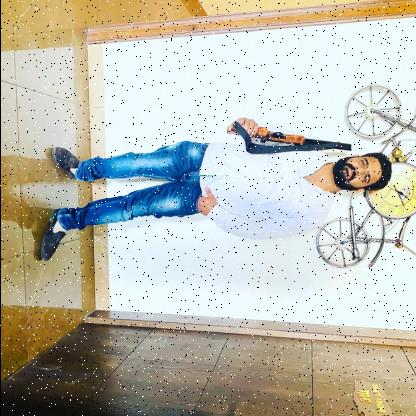rifle: (224, 122, 352, 152)
